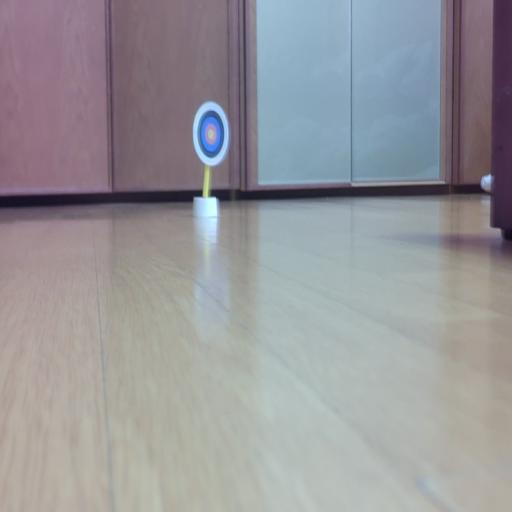target: (193, 101, 230, 165)
